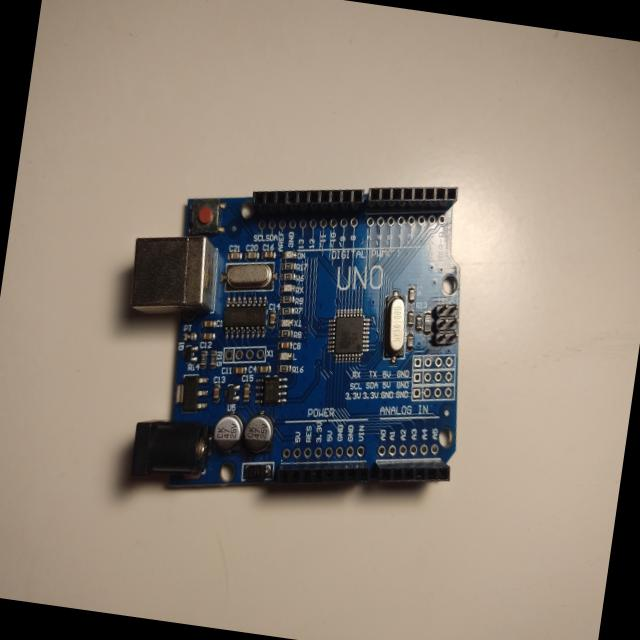arduino: (83, 136, 523, 540)
